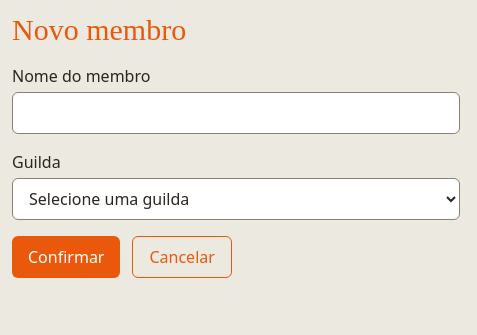
FormularioMembro › não envia o formulário sem o nome do membro
The width and height of the screenshot is (477, 335).
Select "Legião dos Dragões" in the dropdown labelled "Guilda" at (236, 199), box [12,178,460,220]
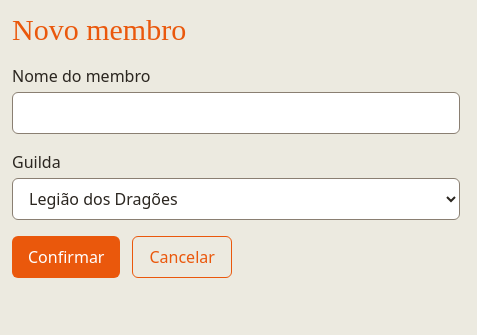
Click the button "Confirmar" at (66, 257), box [12,236,120,278]
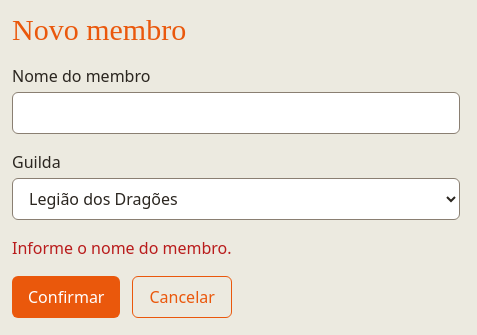
expect the message shows "Informe o nome do membro": met, box [12,237,232,259]
